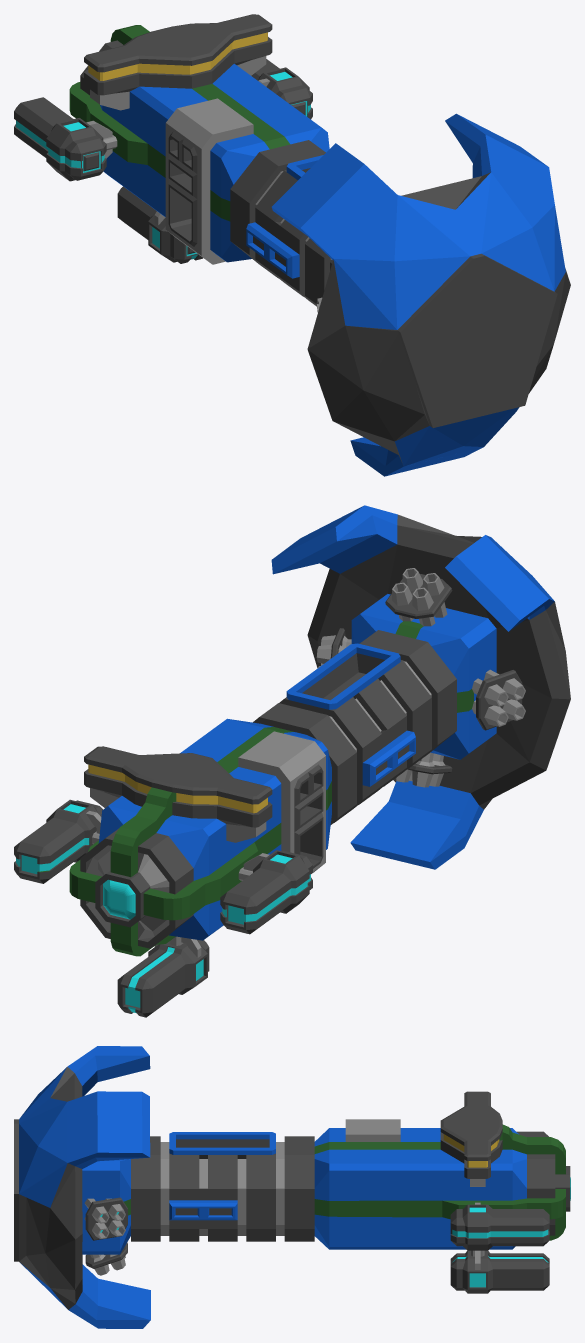
Rendered from Ship.fbx.
The picture shows the model from 3 angles, top to bottom: view 1: azimuth 30°, elevation 25°; view 2: azimuth 150°, elevation 25°; view 3: azimuth 270°, elevation 25°; orthographic projection. The views are drawn at different scales.
Parts seen in each view (by area): view 1: Ship_New; view 2: Ship_New; view 3: Ship_New.
Part boxes in pixels (box(x1,y1,x2,y2)): Ship_New: box(14, 14, 570, 476); Ship_New: box(14, 505, 570, 1017); Ship_New: box(14, 1046, 570, 1328).
Bounding box in the file's own units: 23.38 × 26.99 × 55.56.
